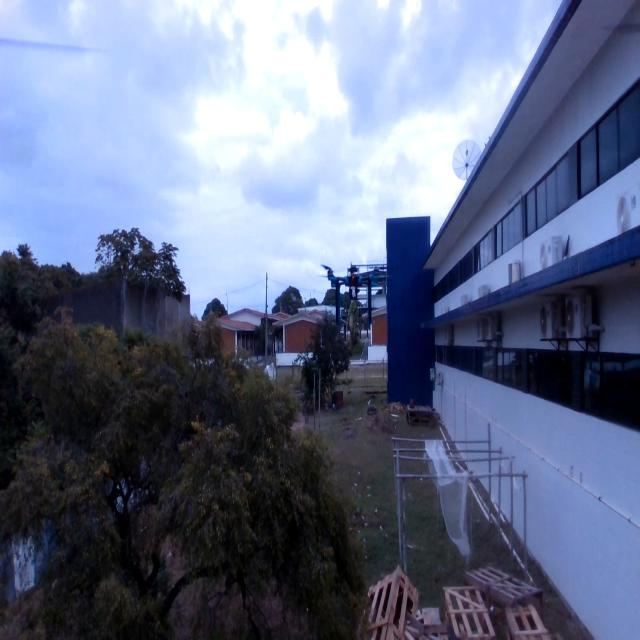-uav-: (311, 254, 387, 342)
